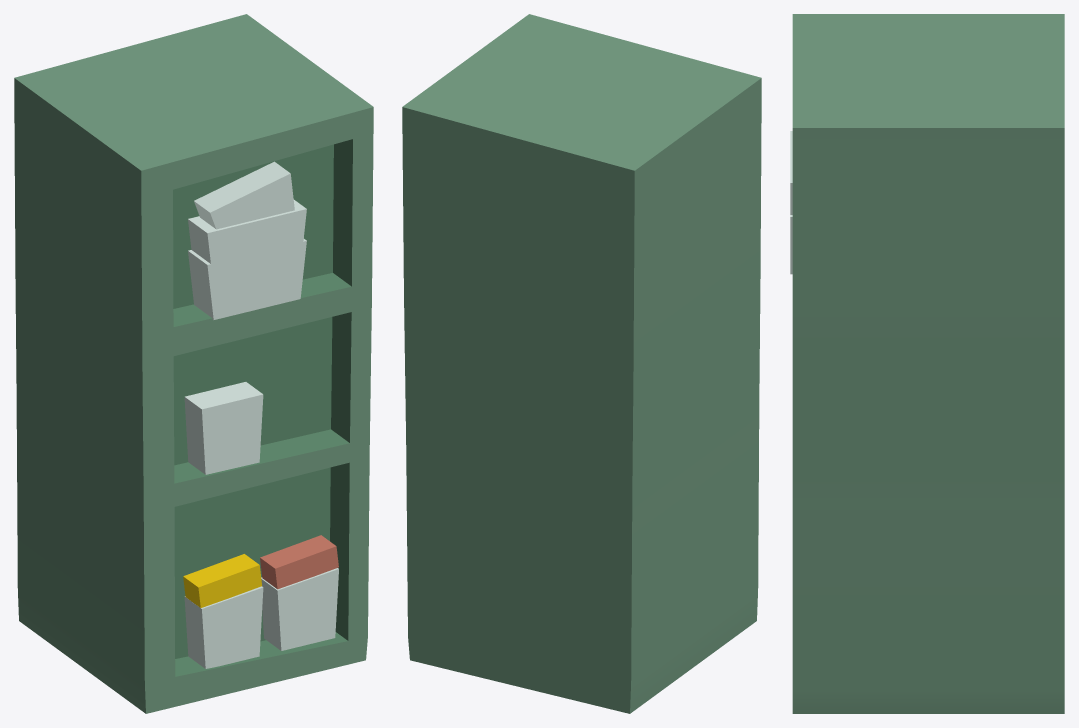
File: Shelf.fbx
The picture shows the model from 3 angles, left to right: view 1: azimuth 30°, elevation 25°; view 2: azimuth 150°, elevation 25°; view 3: azimuth 270°, elevation 25°; orthographic projection. The views are drawn at different scales.
Parts seen in each view (by area): view 1: pCube1, pCube7, pCube2, pCube8, pCube3, pCube4, pCube9, pCube5, pCube6; view 2: pCube1; view 3: pCube1.
Boxes of the visible parts, x1,y1,x2,y2 form: pCube1: [14, 14, 373, 713]; pCube7: [188, 238, 306, 319]; pCube2: [184, 382, 263, 474]; pCube8: [188, 199, 306, 288]; pCube3: [184, 586, 263, 668]; pCube4: [261, 568, 338, 650]; pCube9: [194, 161, 294, 229]; pCube5: [183, 554, 261, 607]; pCube6: [260, 535, 338, 589]; pCube1: [402, 14, 761, 713]; pCube1: [792, 14, 1064, 713].
Bounding box in the file's own units: 55.8 × 126 × 53.26.
